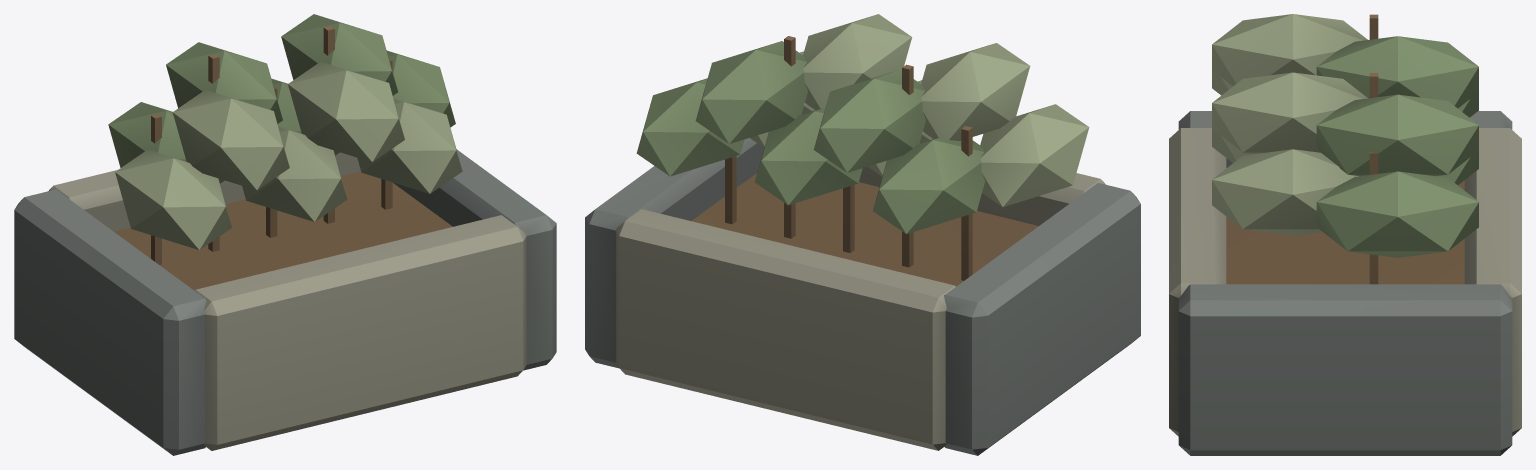
The model's file is courtyard_planter.glb.
3 views of the same model, side by side, from view 1: azimuth 30°, elevation 25°; view 2: azimuth 150°, elevation 25°; view 3: azimuth 270°, elevation 25° (orthographic). The views are drawn at different scales.
Parts seen in each view (by area): view 1: courtyard_planter; view 2: courtyard_planter; view 3: courtyard_planter.
Part boxes in pixels (<box>): courtyard_planter: <box>14,14,556,455</box>; courtyard_planter: <box>585,14,1140,455</box>; courtyard_planter: <box>1169,14,1521,455</box>.
Bounding box in the file's own units: 0.99 × 0.73 × 0.74.
